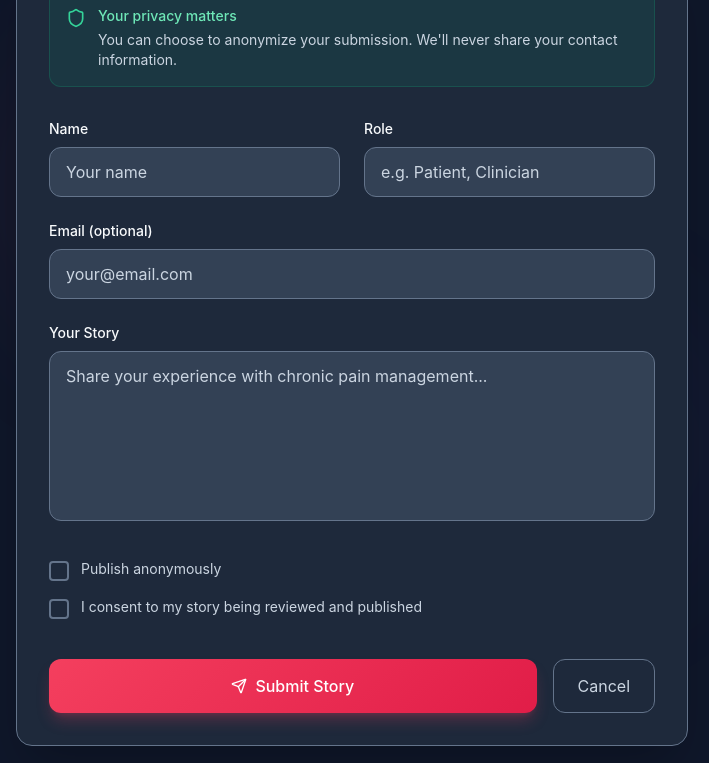
Test: SubmitStoryPage › renders the submit story form and submits
(page scrolled)
In the text box labelled "Your Story": (352, 436) top-left (49, 351), bottom-right (655, 521), type "This is my story"
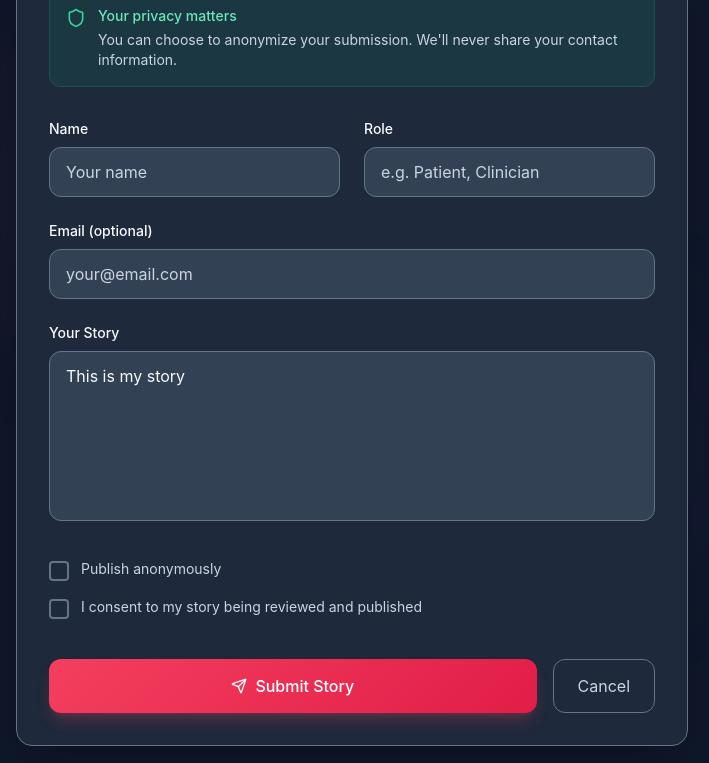
Click the checkbox labelled "I consent to my story being reviewed and published": (236, 608) top-left (49, 598), bottom-right (422, 619)
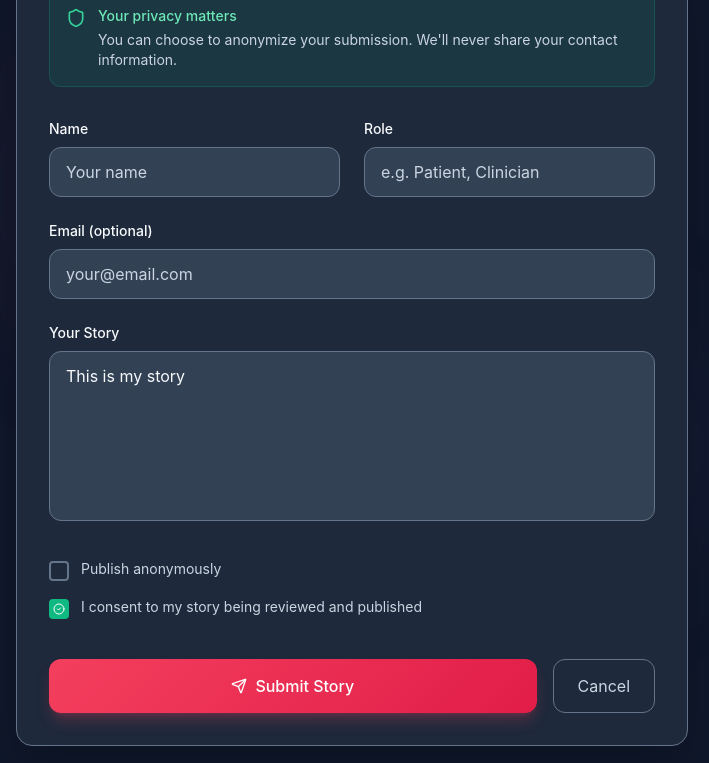
Click the button "Submit Story": (293, 686) top-left (49, 659), bottom-right (536, 713)
(page scrolled)
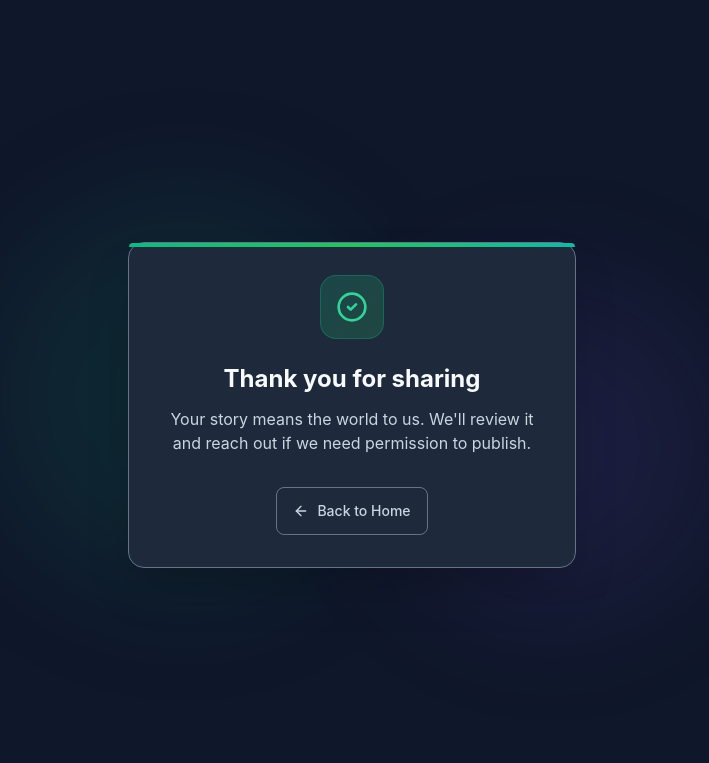
Result: the heading "Thank you for sharing" is shown at top-left (224, 364), bottom-right (480, 393)
